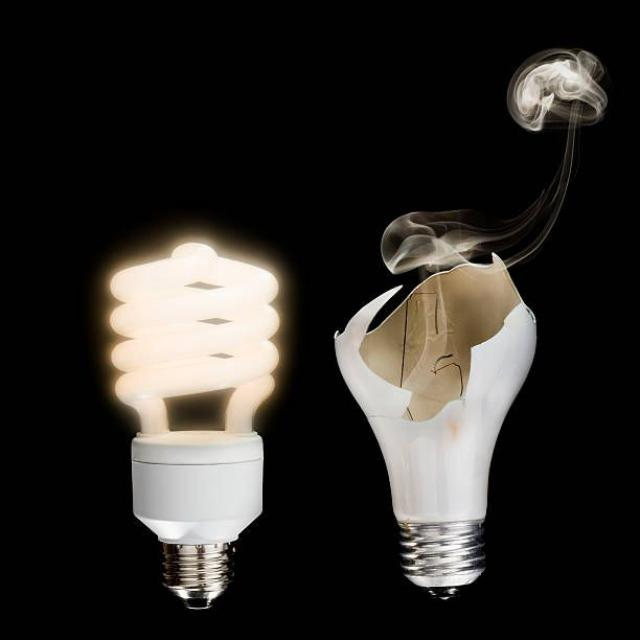electronic: (332, 250, 538, 599), (105, 240, 281, 610)
